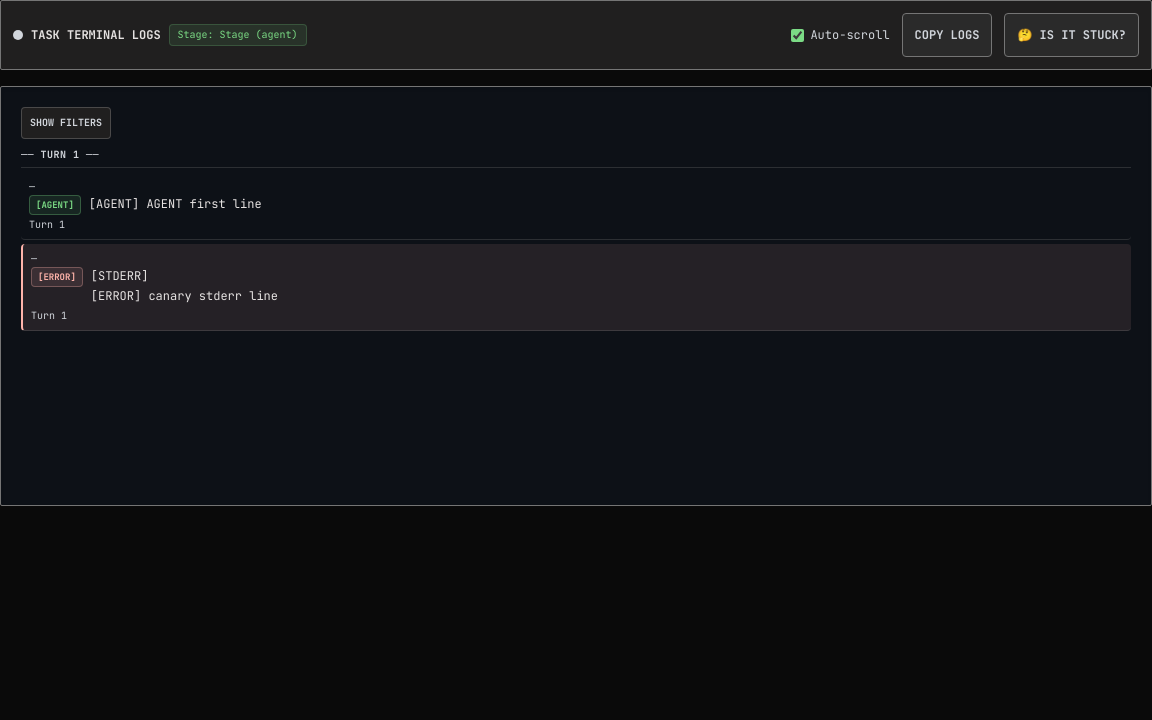
Scenario: error and [STDERR]-wrapped entries are classified without displaying an intervention strip
Click the button with test id "log-filter-toggle". click: point(66, 123)
box: [21,107,111,139]
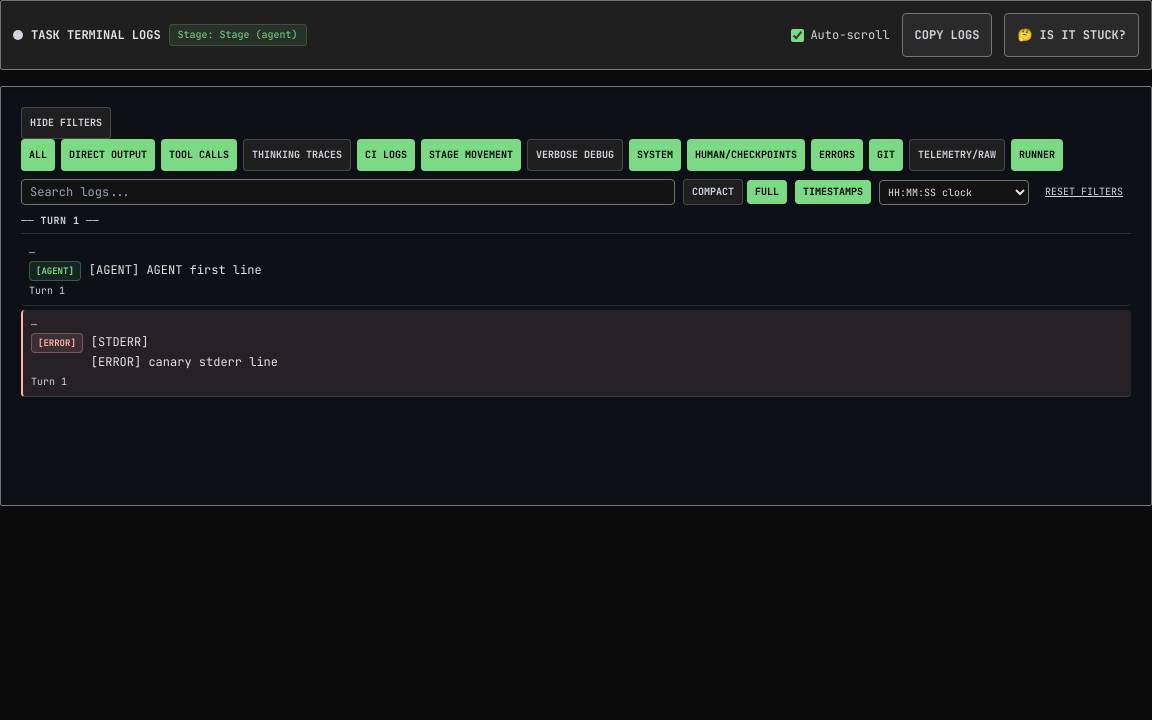
Expected: the text "[STDERR] [ERROR] canary stderr line" is shown, [90,333,278,370]
Result: the button "Errors" is shown at [811,139,863,171]
